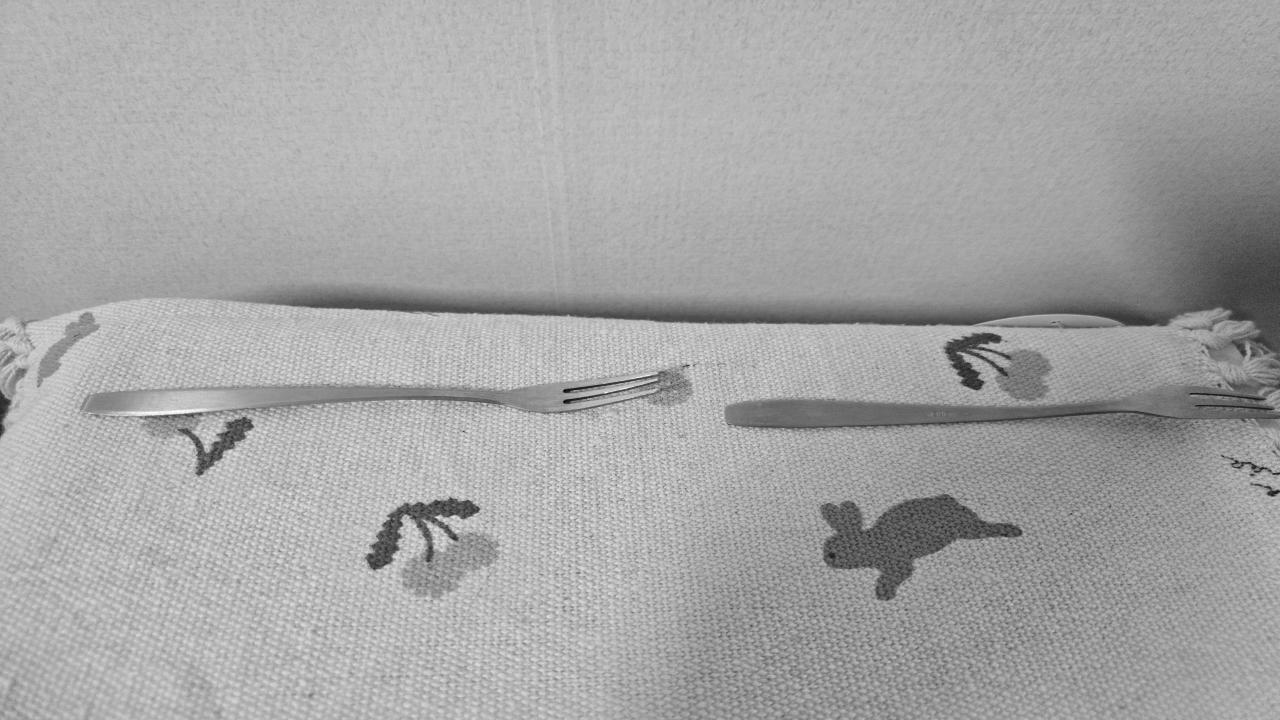fork: (82, 369, 660, 419), (722, 382, 1272, 430)
